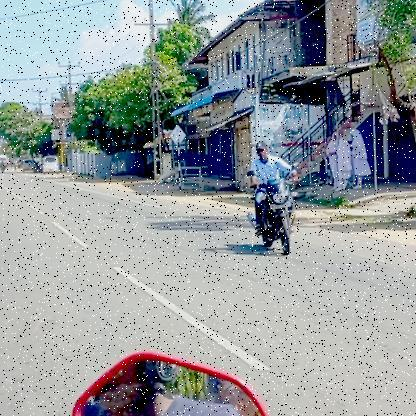motorcycle: (245, 177, 302, 258)
